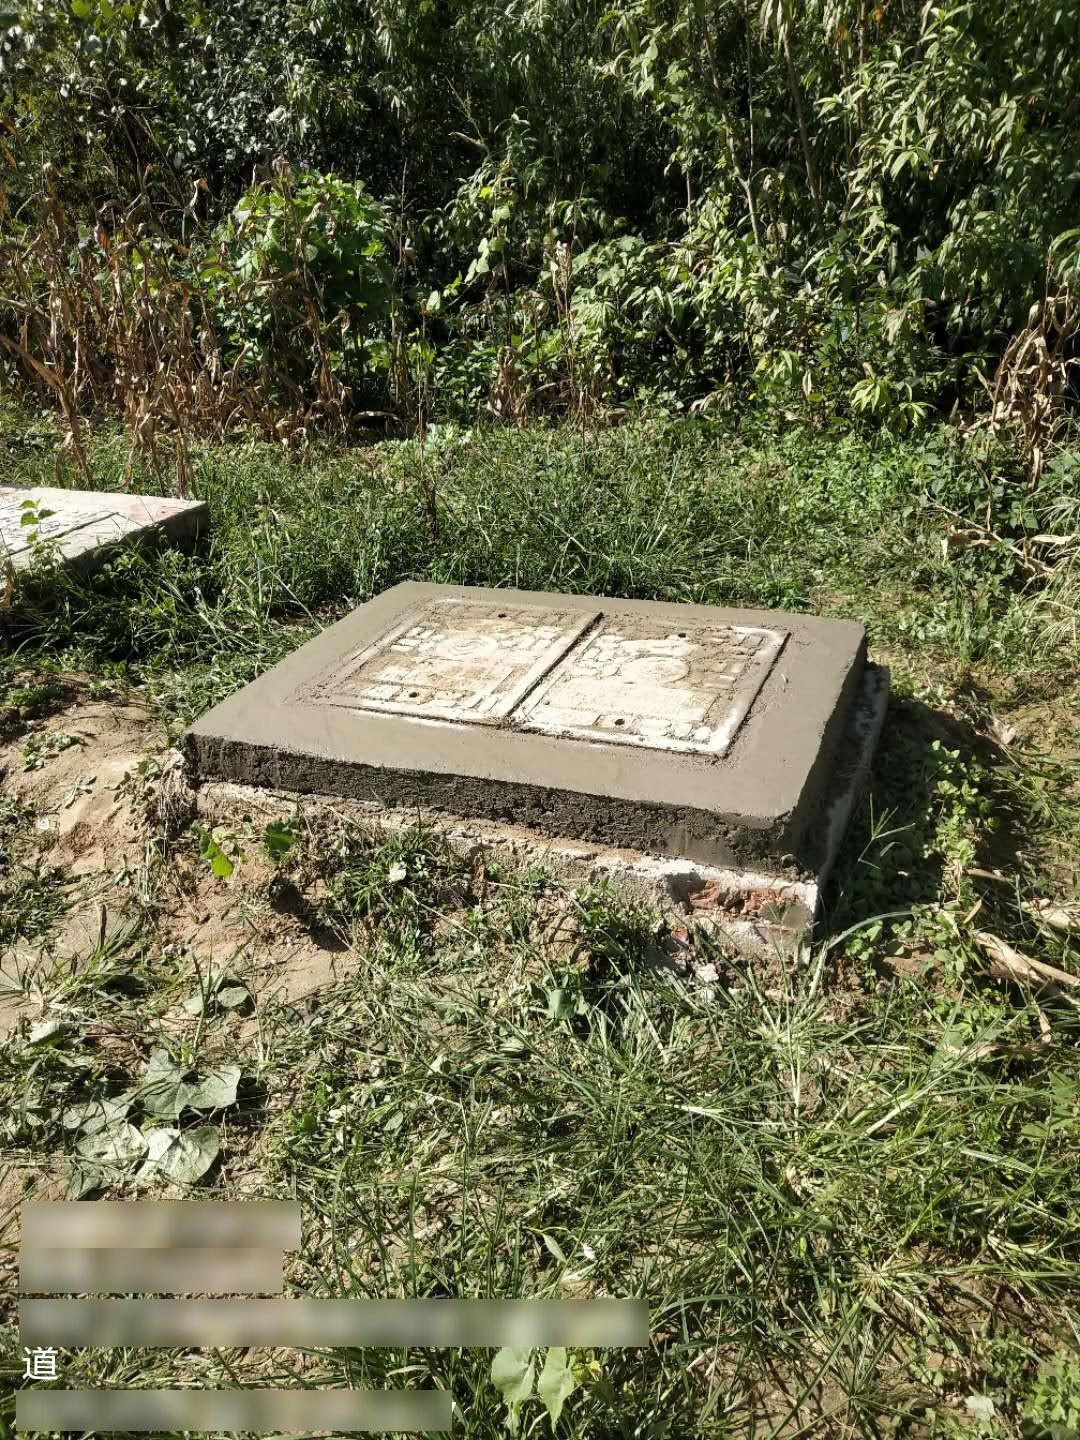wellcover: (311, 564, 835, 821), (0, 448, 213, 600)
